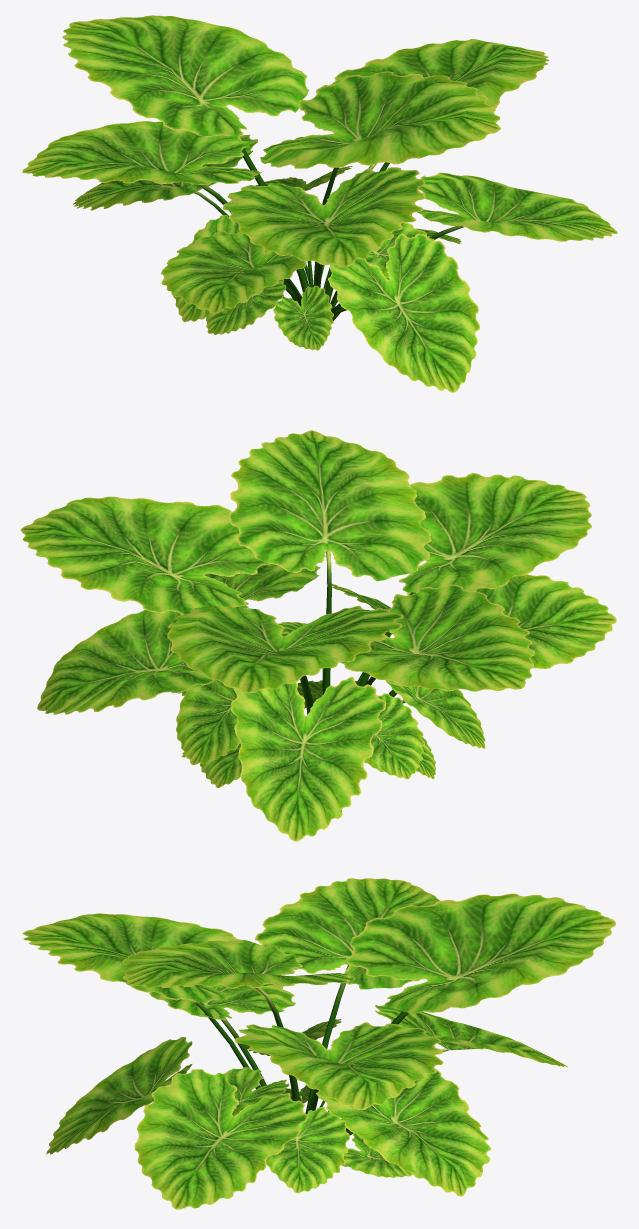
Rendered from elephant_ear_bush_optimised.glb.
The picture shows the model from 3 angles, top to bottom: view 1: azimuth 30°, elevation 25°; view 2: azimuth 150°, elevation 25°; view 3: azimuth 270°, elevation 25°; orthographic projection. The views are drawn at different scales.
Parts seen in each view (by area): view 1: elephant_ear_bush; view 2: elephant_ear_bush; view 3: elephant_ear_bush.
Part boxes in pixels (left/top/right/bottom): elephant_ear_bush: left=22, top=15, right=617, bottom=392; elephant_ear_bush: left=20, top=430, right=616, bottom=841; elephant_ear_bush: left=22, top=878, right=615, bottom=1209.
Size of the model in its own units: 2.4 by 1.1 by 2.47.
1 material, 1 textured.
